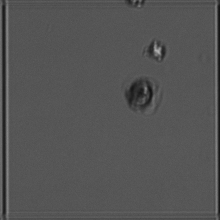Dead Cell: (122, 73, 165, 115)
Living Cell: (146, 36, 169, 63), (124, 1, 148, 9)
